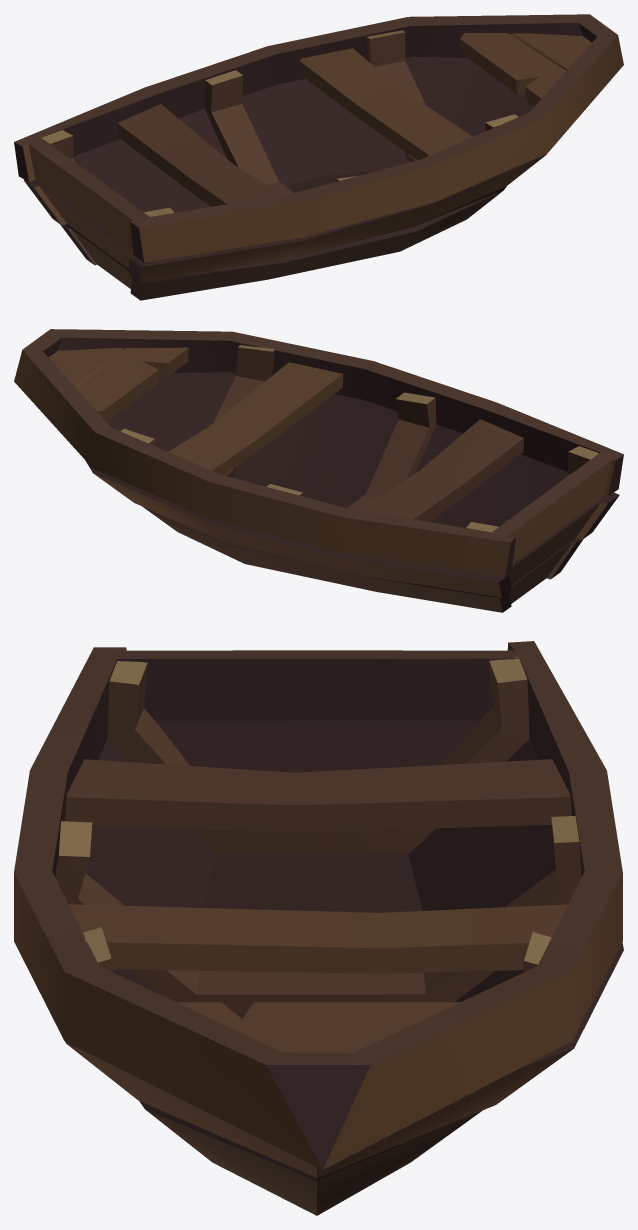
3 renders of one model, top to bottom at view 1: azimuth 30°, elevation 25°; view 2: azimuth 150°, elevation 25°; view 3: azimuth 270°, elevation 25°, orthographic. The views are drawn at different scales.
Visible parts, largest first — view 1: mff_prop_boat; view 2: mff_prop_boat; view 3: mff_prop_boat.
Part boxes in pixels (box(x1,y1,x2,y2)): mff_prop_boat: box(14, 14, 623, 300); mff_prop_boat: box(14, 329, 623, 612); mff_prop_boat: box(14, 641, 623, 1215).
Size of the model in its own units: 4.66 by 1.08 by 2.41.
Materials: 1 (1 with a texture image).
